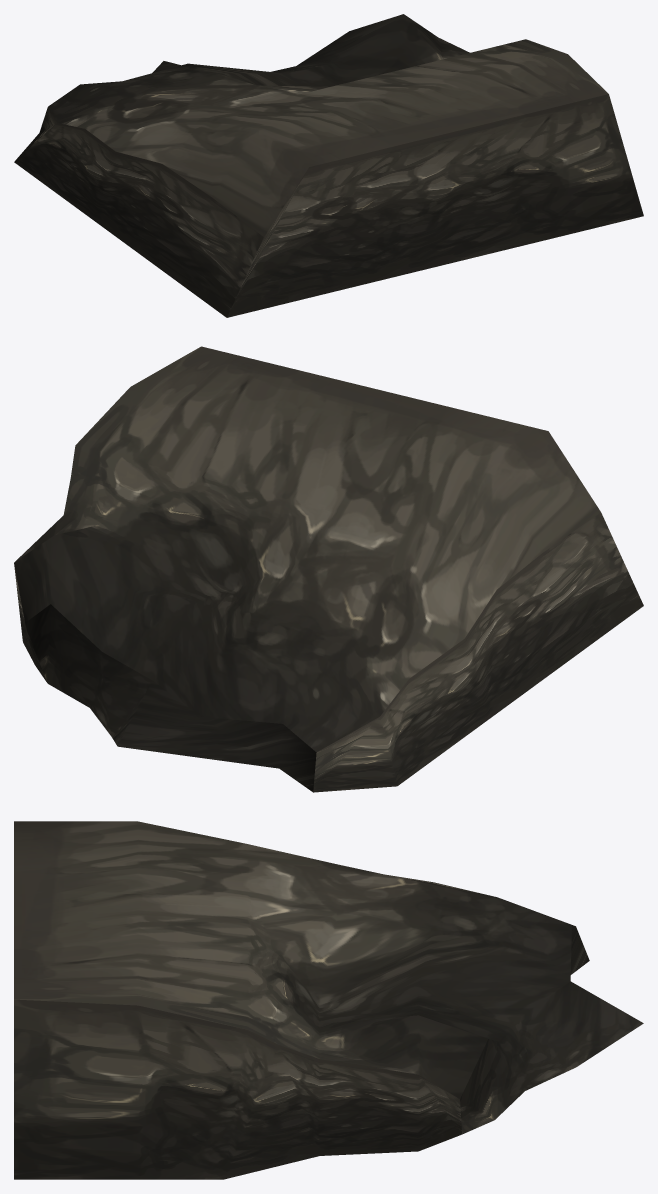
The model's file is Broken_bottom_stones1.fbx.
3 renders of one model, top to bottom at view 1: azimuth 30°, elevation 25°; view 2: azimuth 150°, elevation 25°; view 3: azimuth 270°, elevation 25°, orthographic. The views are drawn at different scales.
Parts seen in each view (by area): view 1: pCube18; view 2: pCube18; view 3: pCube18.
Part boxes in pixels (x1,y1,x2,y2): pCube18: (14, 14, 643, 317); pCube18: (14, 346, 643, 792); pCube18: (14, 821, 643, 1179).
Bounding box in the file's own units: 52.02 × 15.58 × 55.88.
